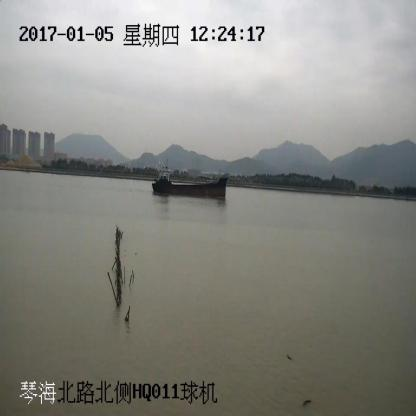Bulk Carrier: (151, 169, 229, 199)
